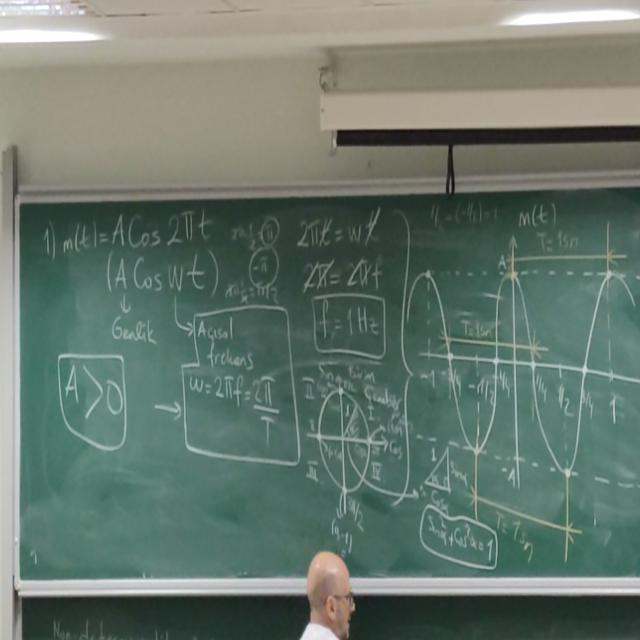image: (400, 225, 640, 486), (303, 357, 398, 520)
math: (41, 212, 222, 302), (185, 365, 287, 465), (296, 204, 390, 296), (422, 504, 499, 570), (228, 212, 282, 302), (58, 359, 122, 423), (314, 294, 384, 348)
text: (108, 308, 162, 356)
